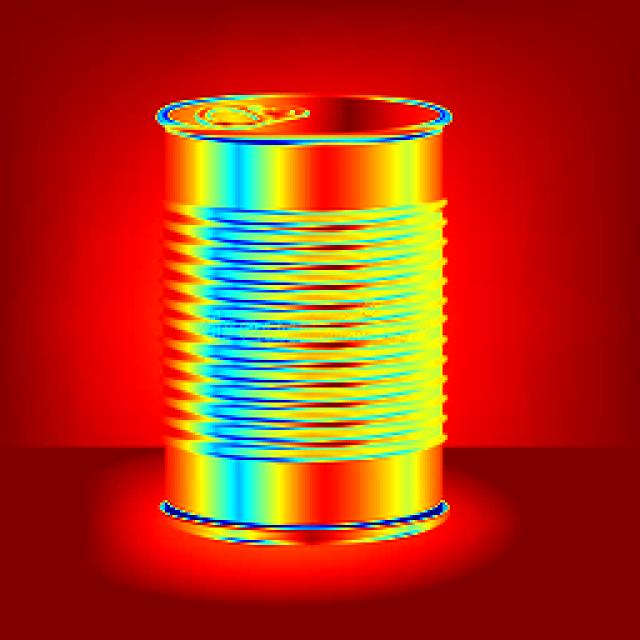Aluminium Food Cans: (138, 73, 476, 565)
